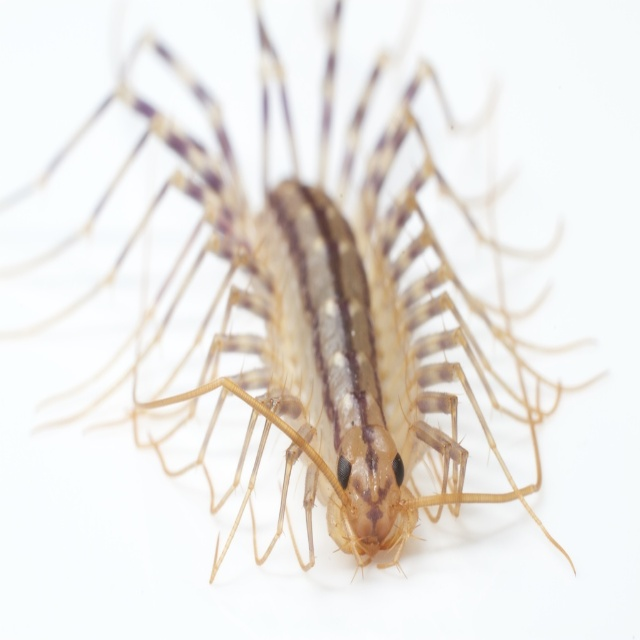Centipede: (0, 0, 609, 586)
